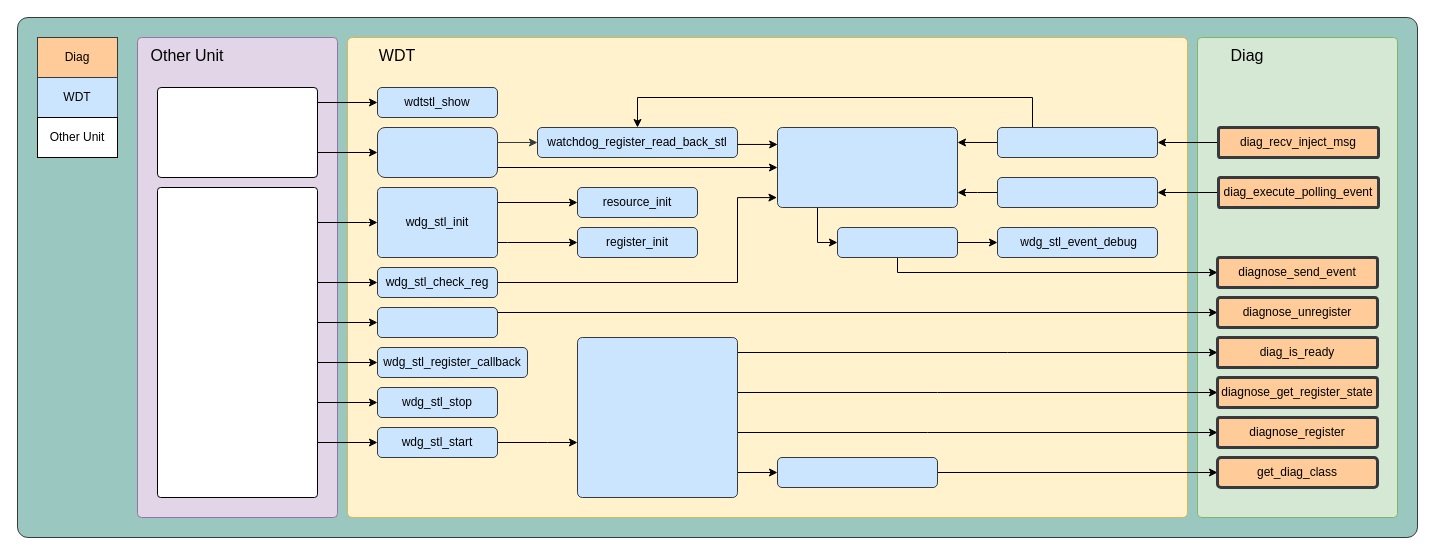
Some shapes in this 1435 by 555 pixel diagram are drawn without their labels. The box of each missing label's shape, as (x1, y1, x2, y2) in pixels:
deal_work_handler: (836, 226, 958, 258)
notify_wdg_stl: (776, 126, 958, 208)
register_work_handler: (576, 336, 738, 498)
sysfs ops: (156, 86, 318, 178)
wdg_inject_callback: (996, 126, 1158, 158)
wdg_stl_deinit: (376, 306, 498, 338)
wdg_stl_polling_callback: (996, 176, 1158, 208)
wdgstl_sysfs_node_create: (776, 456, 938, 488)
wdt driver: (156, 186, 318, 498)
wdtstl_store: (376, 126, 498, 178)
